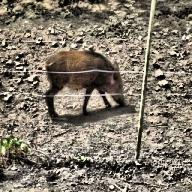boar: (43, 49, 127, 118)
